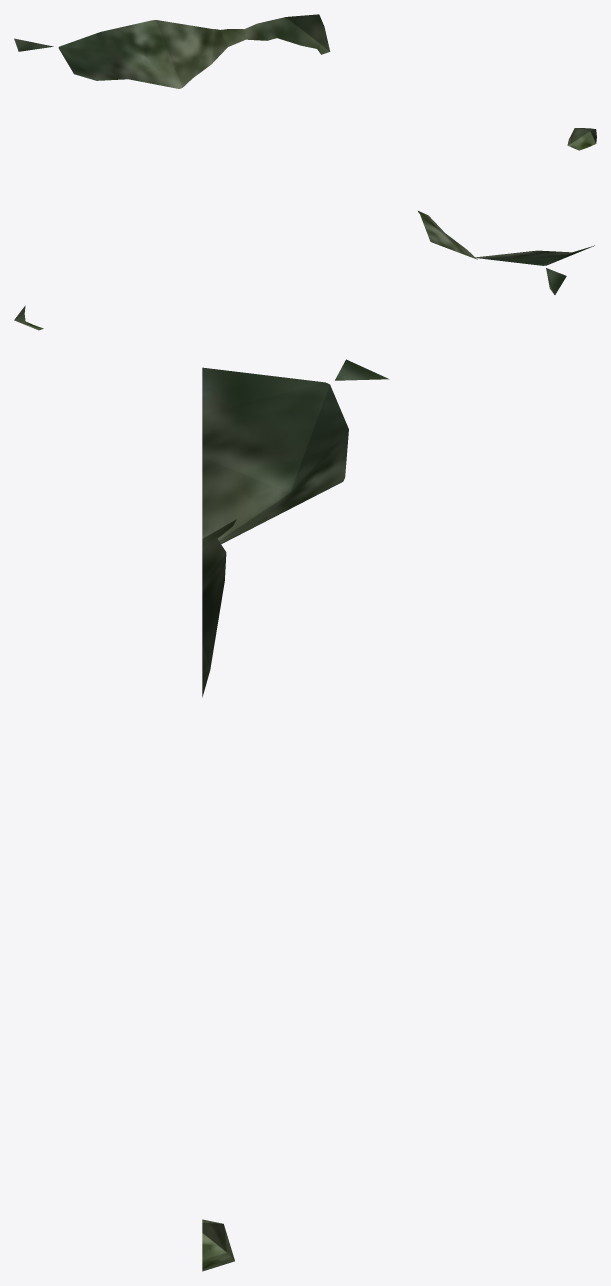
3 renders of one model, top to bottom at view 1: azimuth 30°, elevation 25°; view 2: azimuth 150°, elevation 25°; view 3: azimuth 270°, elevation 25°, orthographic. The views are drawn at different scales.
Bounding box in the file's own units: 2.71 × 0.9697 × 0.4539.
1 material, 1 textured.
